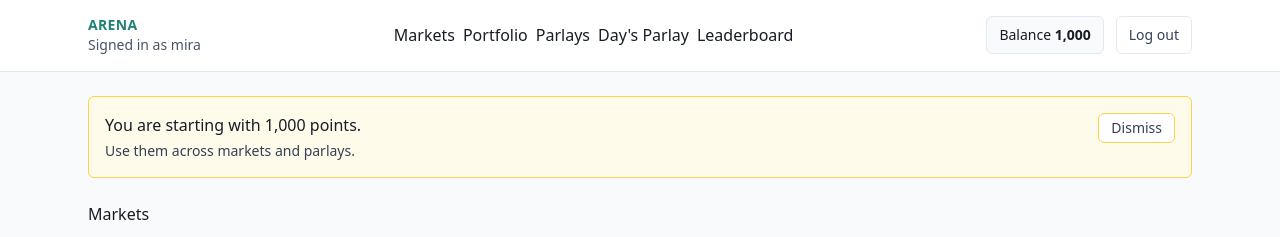
Test case: AppShell › hides the starting balance banner after it has been dismissed for the user
Click the button with aria-label "Dismiss starting balance banner".
click(1137, 128)  # box [1098,113,1175,143]
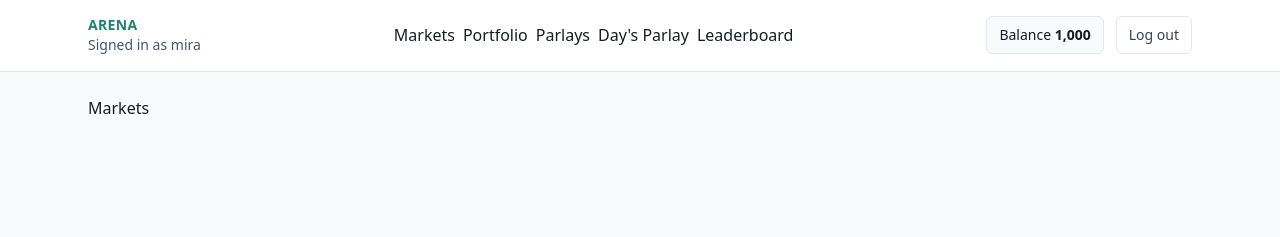
Now the heading "You are starting with 1,000 points." is gone
